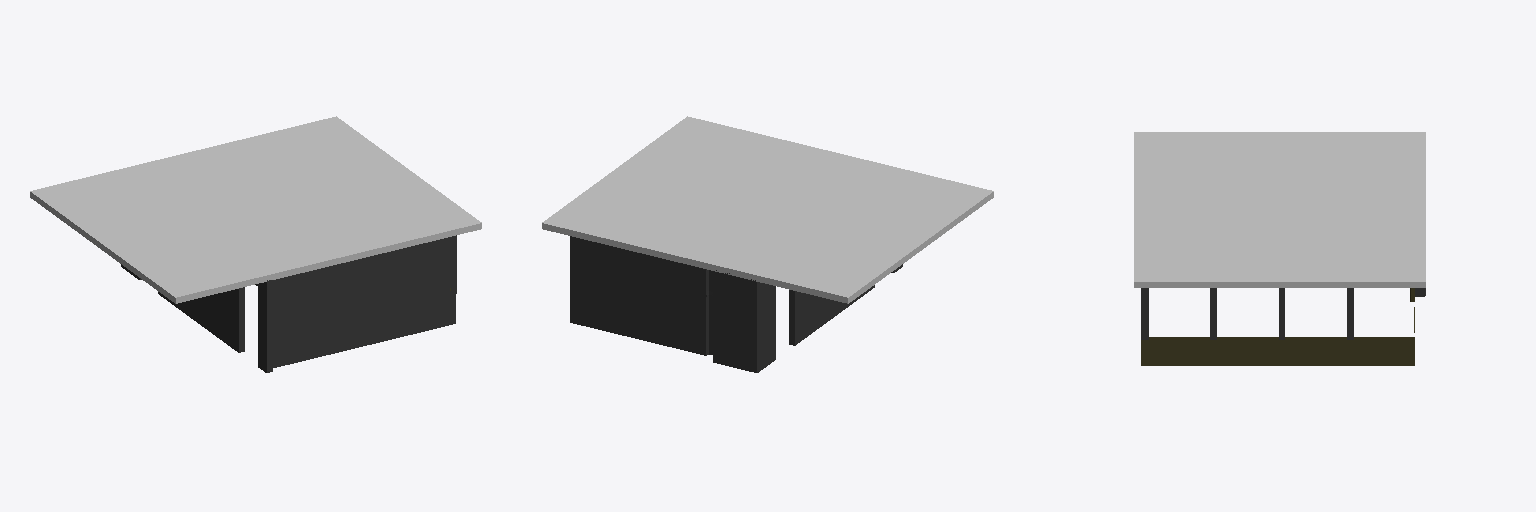
File: classroom.obj
3 renders of one model, left to right at view 1: azimuth 30°, elevation 25°; view 2: azimuth 150°, elevation 25°; view 3: azimuth 270°, elevation 25°, orthographic.
Parts seen in each view (by area): view 1: ceiling, wall.010, wall; view 2: ceiling, wall.008, wall; view 3: ceiling, woodBase.
Boxes of the visible parts, box(x1,y1,x2,y2) form: ceiling: box(30, 116, 481, 303); wall.010: box(273, 237, 455, 367); wall: box(121, 264, 272, 372); ceiling: box(542, 116, 993, 303); wall.008: box(570, 236, 750, 371); wall: box(751, 264, 902, 372); ceiling: box(1134, 132, 1425, 287); woodBase: box(1141, 288, 1414, 365).
Size of the model in its own units: 10.17 by 3.1 by 8.37.